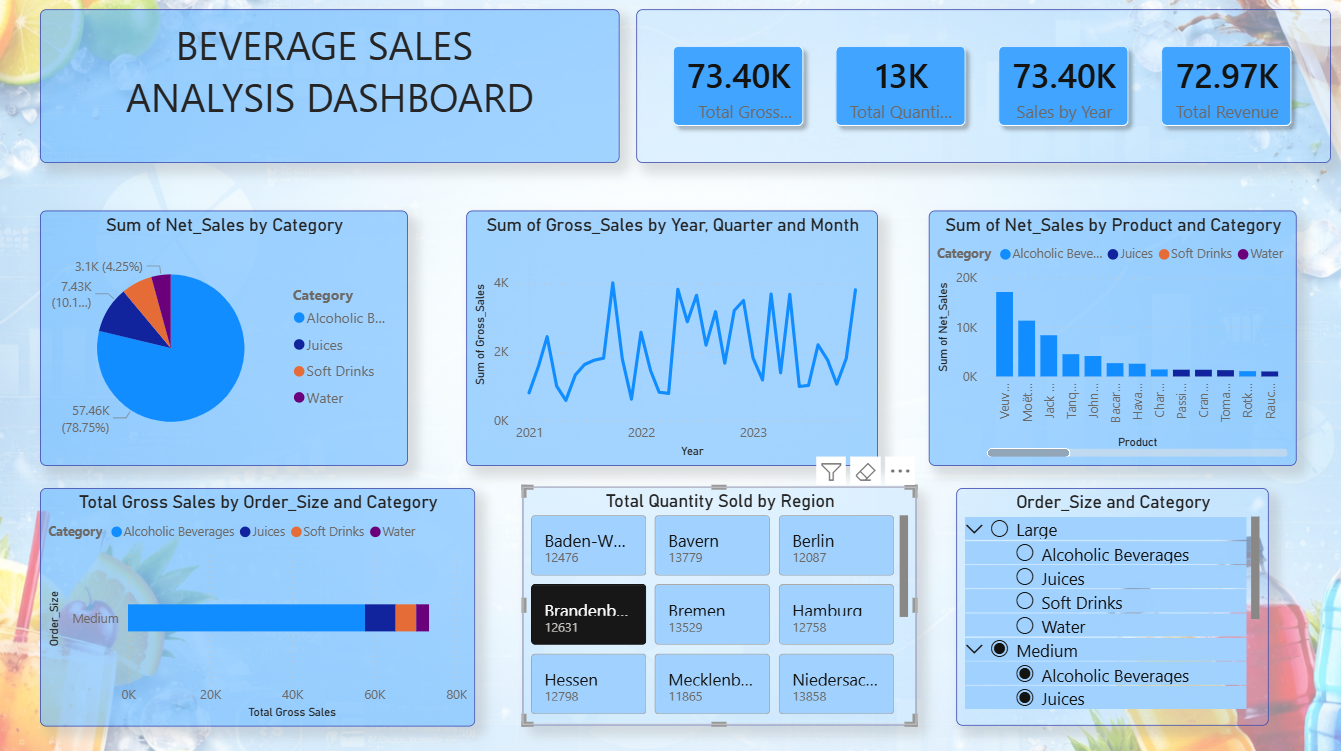

What the dashboard file says about the page in this screenshot:
{"tool":"powerbi","page":{"name":"Page 1","canvas":[1280,720],"ordinal":0},"visuals":[{"type":"cardVisual","fields":{"Data":["sales_db beverage_sales.Total Gross Sales","sales_db beverage_sales.Total Quantity Sold","sales_db beverage_sales.Sales by Year","sales_db beverage_sales.Total Revenue"]},"box":[605.8,10.5,661.6,146.5],"z":0},{"type":"pieChart","fields":{"Y":["Sum(sales_db beverage_sales.Net_Sales)"],"Category":["sales_db beverage_sales.Category"]},"box":[38.1,202.4,350,242.9],"z":1000},{"type":"lineChart","fields":{"Y":["Sum(sales_db beverage_sales.Gross_Sales)"],"Category":["sales_db beverage_sales.Order_Date.Variation.Date Hierarchy.Year","sales_db beverage_sales.Order_Date.Variation.Date Hierarchy.Quarter","sales_db beverage_sales.Order_Date.Variation.Date Hierarchy.Month","sales_db beverage_sales.Order_Date.Variation.Date Hierarchy.Day"]},"box":[444,202.4,391.7,242.9],"z":2000},{"type":"columnChart","fields":{"Y":["Sum(sales_db beverage_sales.Net_Sales)"],"Category":["sales_db beverage_sales.Product"],"Series":["sales_db beverage_sales.Category"]},"box":[884.5,202.4,350,242.9],"z":3000},{"type":"barChart","fields":{"Y":["sales_db beverage_sales.Total Gross Sales"],"Category":["sales_db beverage_sales.Order_Size"],"Series":["sales_db beverage_sales.Category"]},"box":[38.1,466.7,414.3,227.4],"z":4000},{"type":"advancedSlicerVisual","fields":{"Values":["sales_db beverage_sales.Region"],"Label":["sales_db beverage_sales.Total Quantity Sold"]},"box":[497.6,465.5,375,227.4],"z":6000},{"type":"listSlicer","fields":{"Values":["sales_db beverage_sales.Order_Size","sales_db beverage_sales.Category"]},"box":[910.7,466.7,297.6,226.2],"z":7000},{"type":"textbox","box":[38.1,10.7,552.4,146.4],"z":7001}]}

Visuals, with their boxes in screenshot pixels (x1, y1, x2, y2), scaled from the page's 1280x720 canvas onto the 1341x751 screenshot:
cardVisual - sales_db beverage_sales.Total Gross Sales x sales_db beverage_sales.Total Quantity Sold: locate(635, 11, 1328, 164)
pieChart - Sum(sales_db beverage_sales.Net_Sales) x sales_db beverage_sales.Category: locate(40, 211, 407, 464)
lineChart - Sum(sales_db beverage_sales.Gross_Sales) x sales_db beverage_sales.Order_Date.Variation.Date Hierarchy.Year: locate(465, 211, 876, 464)
columnChart - Sum(sales_db beverage_sales.Net_Sales) x sales_db beverage_sales.Product: locate(927, 211, 1293, 464)
barChart - sales_db beverage_sales.Total Gross Sales x sales_db beverage_sales.Order_Size: locate(40, 487, 474, 724)
advancedSlicerVisual - sales_db beverage_sales.Region x sales_db beverage_sales.Total Quantity Sold: locate(521, 486, 914, 723)
listSlicer - sales_db beverage_sales.Order_Size x sales_db beverage_sales.Category: locate(954, 487, 1266, 723)
textbox: locate(40, 11, 619, 164)
